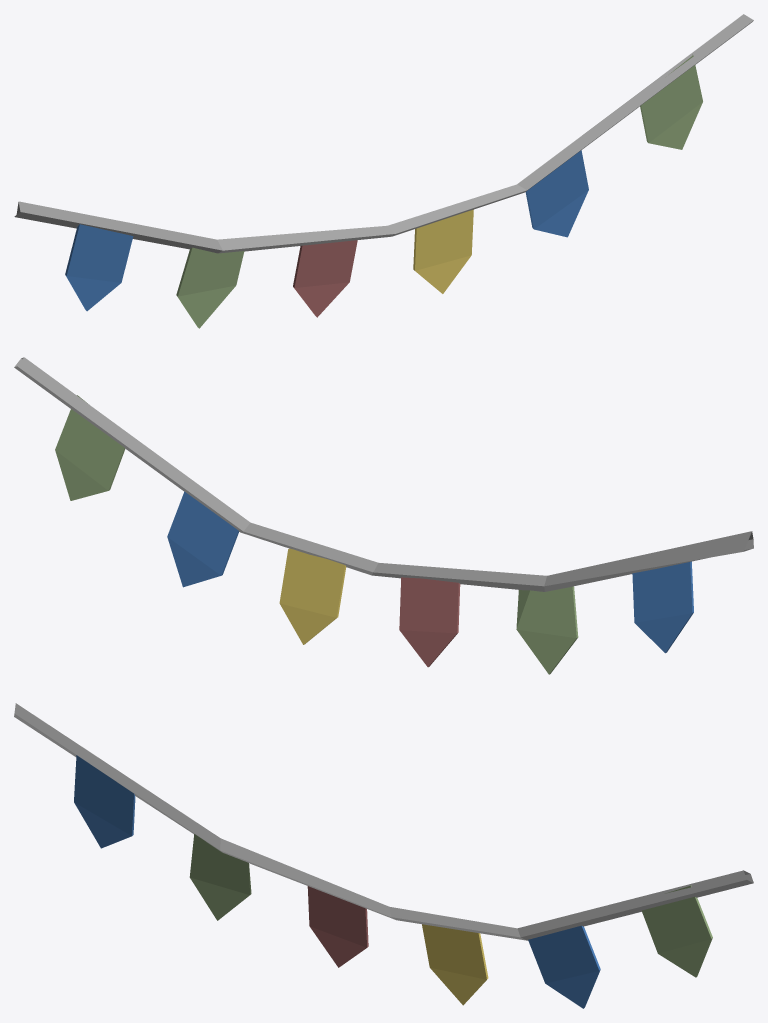
The model's file is Flags.fbx.
The picture shows the model from 3 angles, top to bottom: view 1: azimuth 30°, elevation 25°; view 2: azimuth 150°, elevation 25°; view 3: azimuth 330°, elevation 25°; orthographic projection.
Parts seen in each view (by area): view 1: Flags; view 2: Flags; view 3: Flags.
Part boxes in pixels (x1,y1,x2,y2): Flags: [14, 14, 753, 328]; Flags: [14, 357, 753, 674]; Flags: [14, 703, 753, 1008].
Size of the model in its own units: 231 by 9.85 by 63.69.
